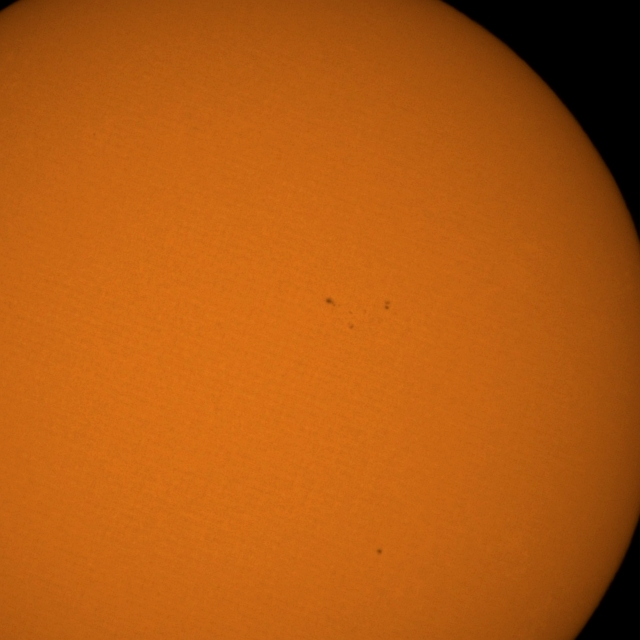sunspot: (324, 296, 336, 308), (346, 319, 356, 331), (383, 299, 392, 311), (376, 547, 384, 556)
